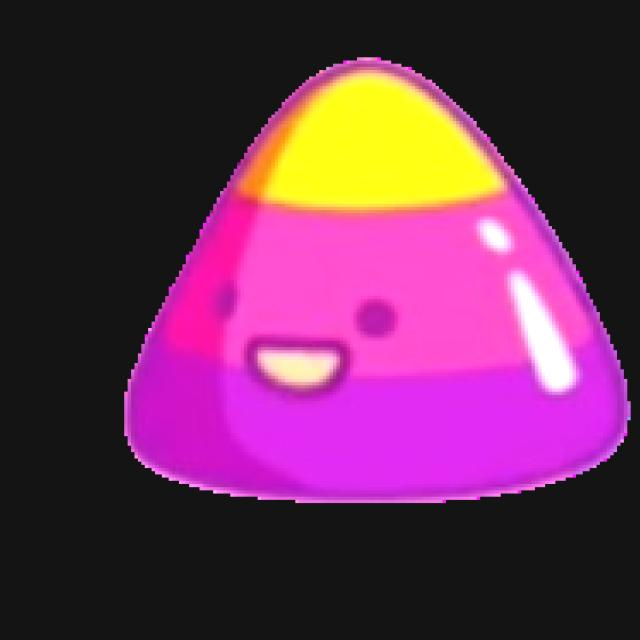Ground Monster - Red Bullet: (120, 54, 634, 506)
